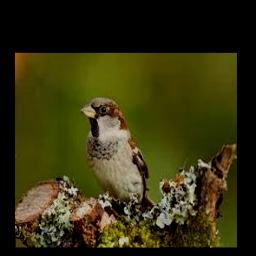Sparrow: (80, 98, 156, 213)
